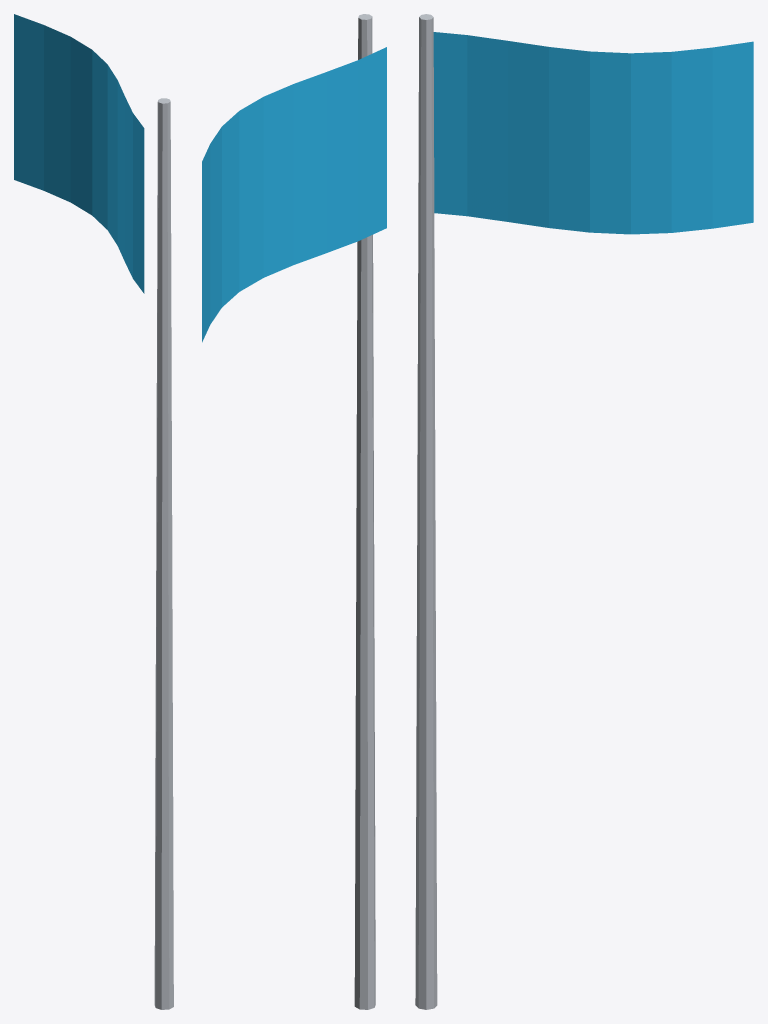
File: flagpole_b.glb
The picture shows the model from 3 angles, left to right: view 1: azimuth 30°, elevation 25°; view 2: azimuth 150°, elevation 25°; view 3: azimuth 270°, elevation 25°; orthographic projection. The views are drawn at different scales.
Parts seen in each view (by area): view 1: flagpole; view 2: flagpole; view 3: flagpole.
Part boxes in pixels (x1,y1,x2,y2): flagpole: (14, 14, 173, 1009); flagpole: (202, 14, 386, 1009); flagpole: (415, 14, 753, 1009).
Size of the model in its own units: 0.2874 by 6 by 1.86.
